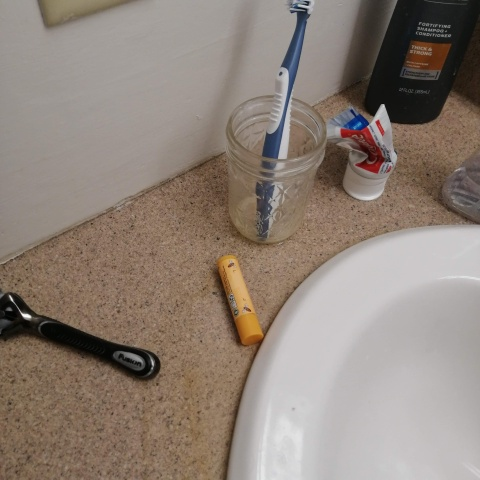chapstick: (215, 255, 264, 347)
